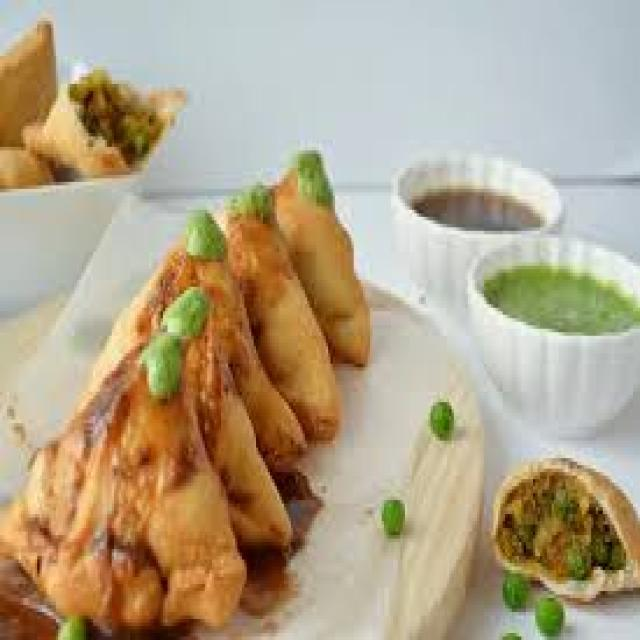SAMOSA: (0, 259, 244, 623), (200, 266, 305, 546), (226, 210, 337, 437), (186, 311, 286, 542), (72, 238, 182, 420), (277, 150, 368, 364)
